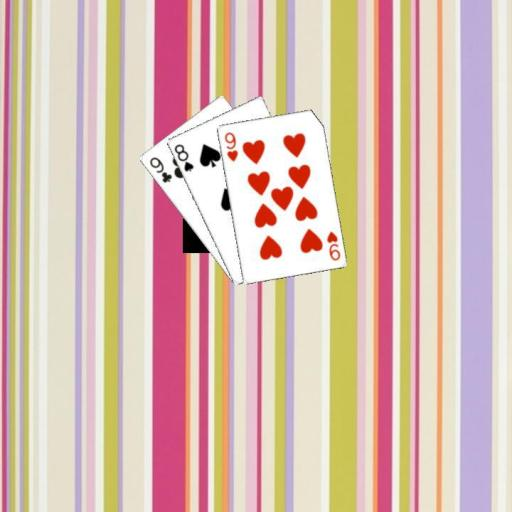8S: (171, 141, 195, 173)
9C: (146, 154, 173, 184)
9H: (221, 129, 239, 163), (324, 228, 342, 262)
